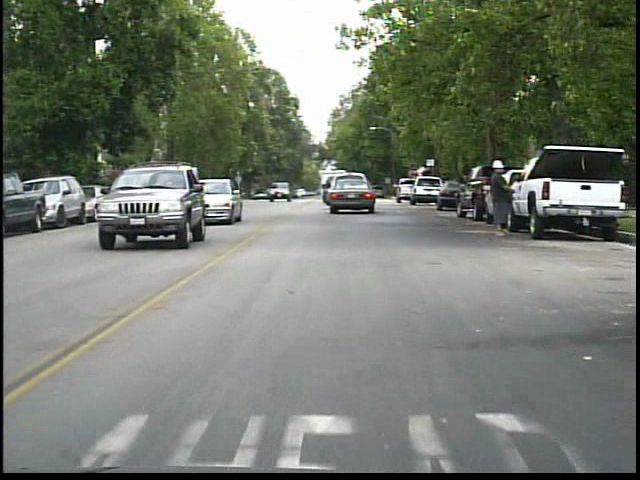person: (486, 156, 517, 240)
